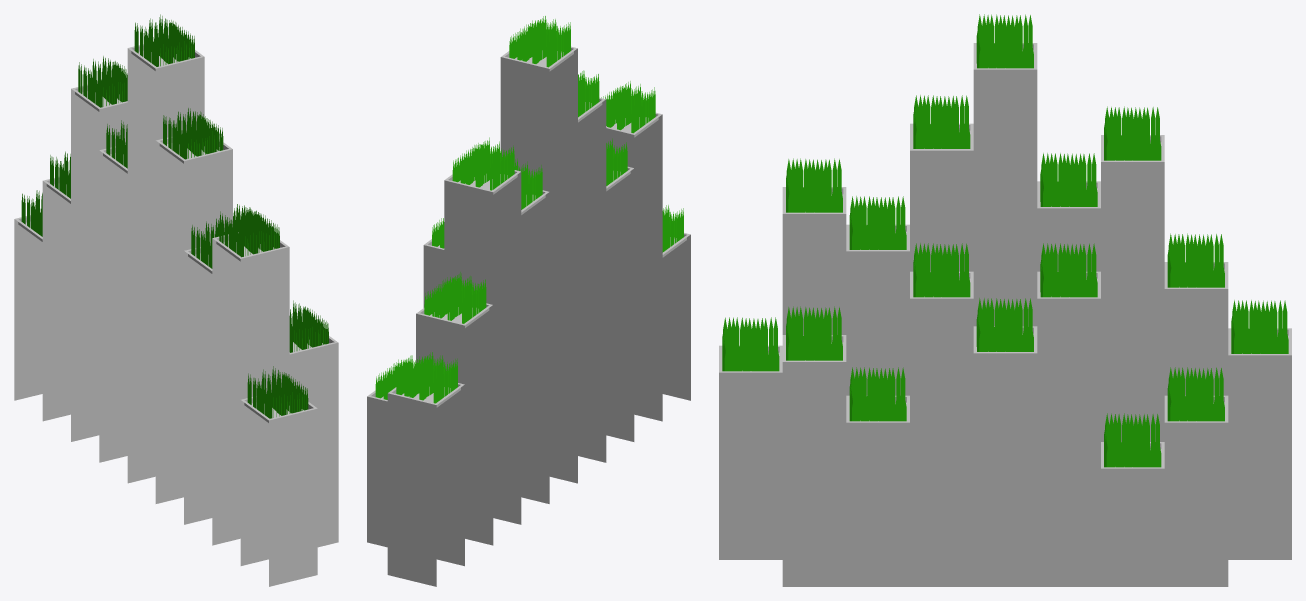
File: Plants.fbx
3 renders of one model, left to right at view 1: azimuth 30°, elevation 25°; view 2: azimuth 150°, elevation 25°; view 3: azimuth 270°, elevation 25°, orthographic. The views are drawn at different scales.
Visible parts, largest first — view 1: Plants; view 2: Plants; view 3: Plants.
Boxes of the visible parts, x1,y1,x2,y2 form: Plants: [14, 14, 338, 586]; Plants: [367, 16, 690, 586]; Plants: [719, 14, 1291, 586].
Size of the model in its own units: 0.4 by 1.81 by 1.8.
